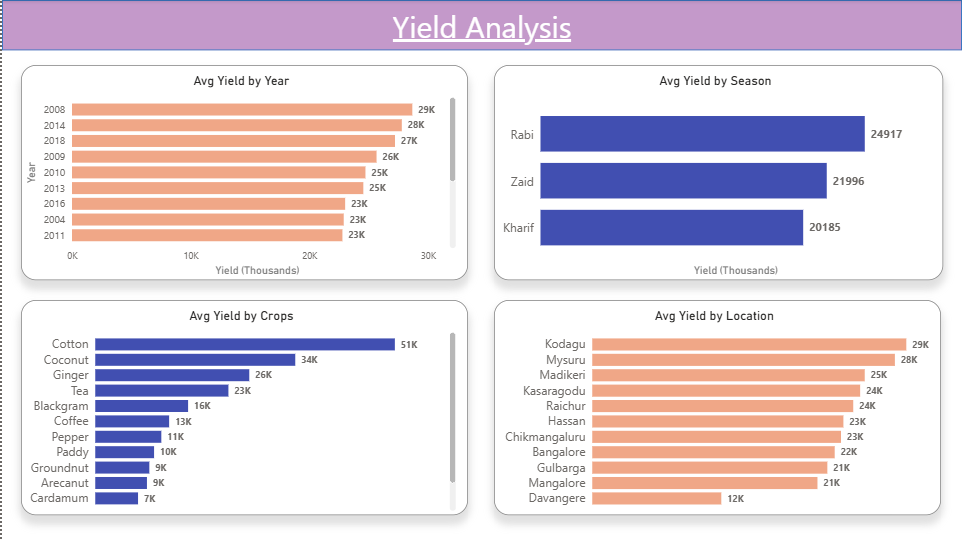

The page's visual inventory and layout, read from the dashboard file:
{"tool":"powerbi","page":{"name":"Yield Analysis","canvas":[1280,720],"ordinal":3},"visuals":[{"type":"shape","box":[0,0,1280,67.1],"z":0},{"type":"barChart","fields":{"Category":["AGRICULTURE.YEAR"],"Y":["Avg(AGRICULTURE.YEILDS)"]},"box":[25.7,87.1,595.7,287.1],"z":1000},{"type":"barChart","fields":{"Category":["AGRICULTURE.SEASON"],"Y":["Avg(AGRICULTURE.YEILDS)"]},"box":[655.7,87.1,598.6,287.1],"z":2000},{"type":"barChart","fields":{"Category":["AGRICULTURE.CROPS"],"Y":["Avg(AGRICULTURE.YEILDS)"]},"box":[25.7,400,595.7,287.1],"z":3000},{"type":"barChart","fields":{"Category":["AGRICULTURE.LOCATION"],"Y":["Avg(AGRICULTURE.YEILDS)"]},"box":[655.7,400,595.7,287.1],"z":4000}]}

Visuals, with their boxes in screenshot pixels (x1, y1, x2, y2), scaled from the page's 1280x720 canvas onto the 962x540 screenshot:
shape: <bbox>0, 0, 961, 50</bbox>
barChart - AGRICULTURE.YEAR x Avg(AGRICULTURE.YEILDS): <bbox>19, 65, 467, 281</bbox>
barChart - AGRICULTURE.SEASON x Avg(AGRICULTURE.YEILDS): <bbox>493, 65, 943, 281</bbox>
barChart - AGRICULTURE.CROPS x Avg(AGRICULTURE.YEILDS): <bbox>19, 300, 467, 515</bbox>
barChart - AGRICULTURE.LOCATION x Avg(AGRICULTURE.YEILDS): <bbox>493, 300, 941, 515</bbox>
